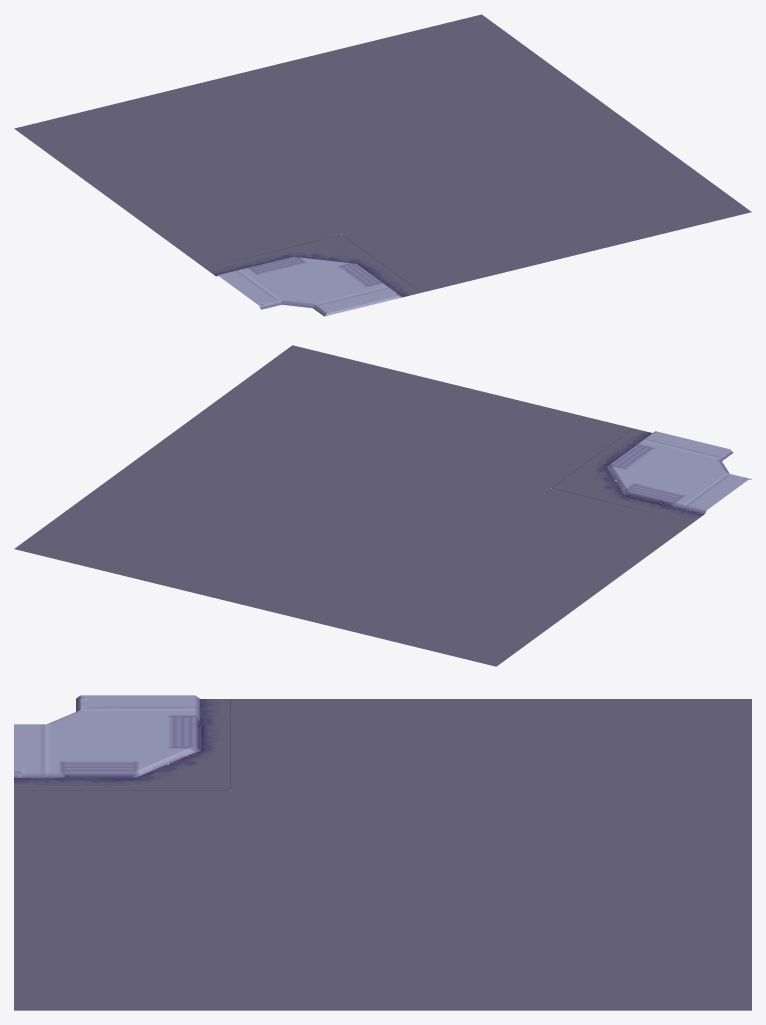
Rendered from TopRightRoad.fbx.
3 views of the same model, one above another, from view 1: azimuth 30°, elevation 25°; view 2: azimuth 150°, elevation 25°; view 3: azimuth 270°, elevation 25° (orthographic). The views are drawn at different scales.
Visible parts, largest first — view 1: Cube.027; view 2: Cube.027; view 3: Cube.027.
Part boxes in pixels (bbox=[...]): Cube.027: bbox=[14, 14, 751, 316]; Cube.027: bbox=[14, 345, 751, 666]; Cube.027: bbox=[14, 695, 751, 1010].
Size of the model in its own units: 596 by 3.13 by 595.
